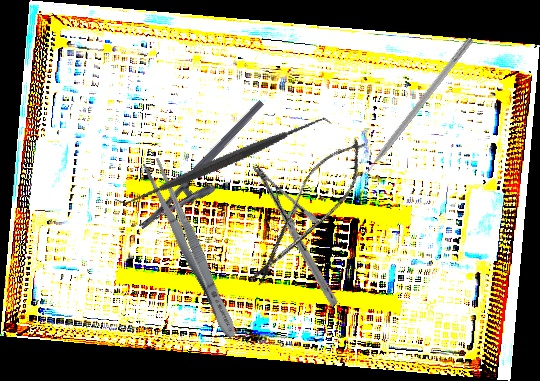Chopper: (350, 31, 474, 183)
Dressing Forceps: (139, 156, 243, 342)
Micro Scissor: (238, 126, 379, 298)
Needle Holder: (212, 162, 378, 308), (138, 99, 282, 247)
Spatula Surgical: (113, 49, 333, 274)
